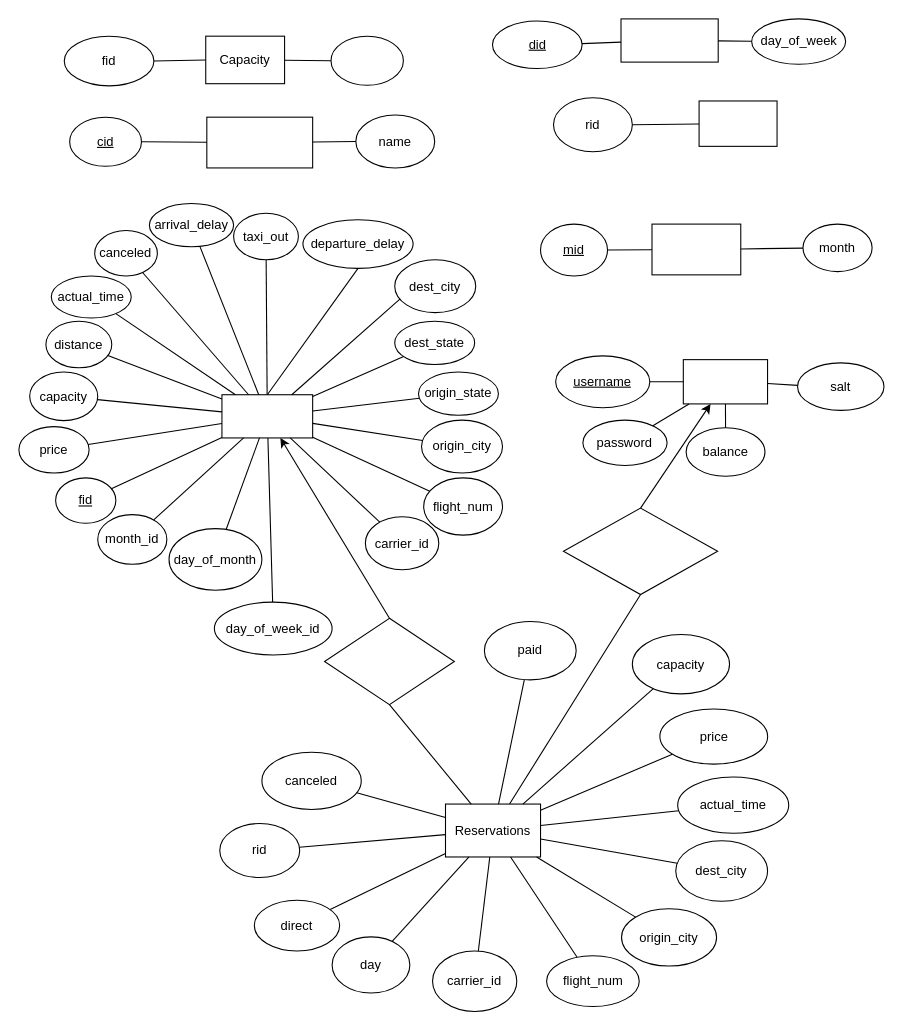
The diagram is 903 pixels wide and 1030 high, and some of its shapes have lost their labels. The box of each missing label's shape, as (x1, y1, x2, y2) in pixels:
CARRIERS: (206, 116, 313, 168)
FLIGHTS: (221, 394, 313, 438)
ID: (698, 100, 777, 146)
MONTHS: (651, 223, 741, 275)
reference: (323, 617, 454, 705)
Reserve: (562, 507, 718, 595)
seats: (330, 35, 403, 85)
Users: (682, 359, 768, 404)
WEEKDAYS: (620, 18, 718, 62)
